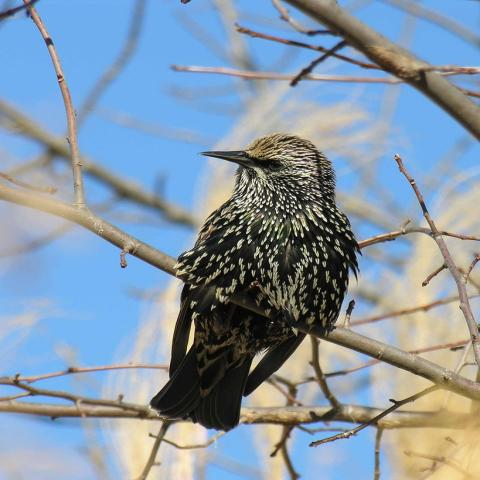bird: (147, 130, 362, 432)
